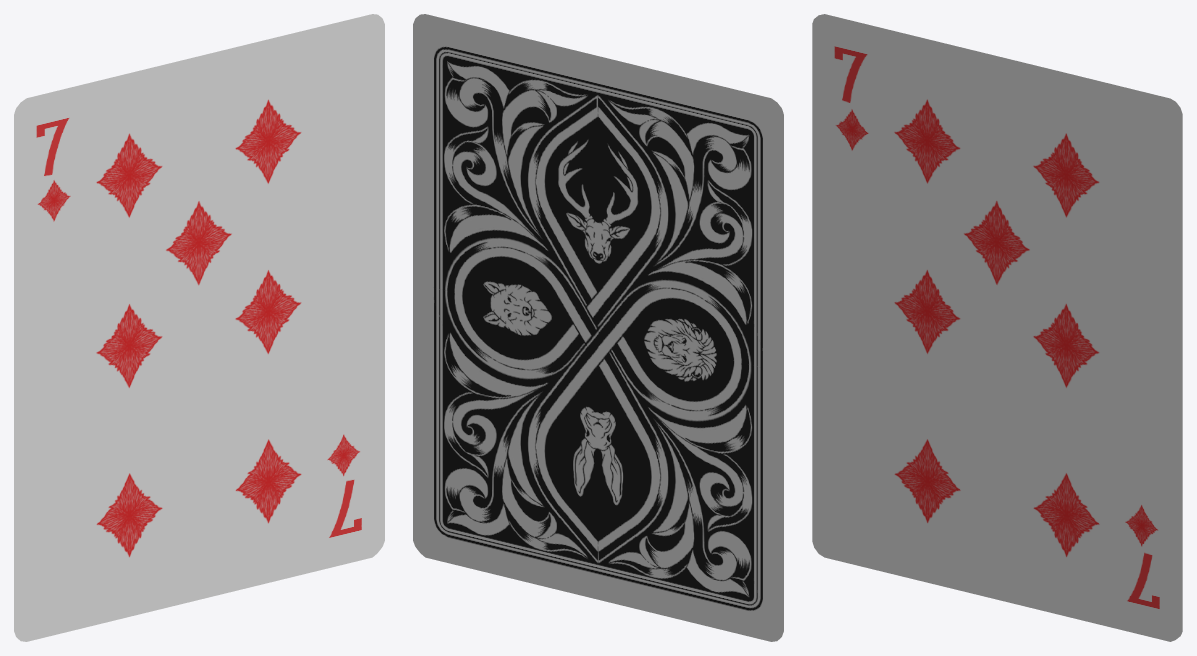
3 renders of one model, left to right at view 1: azimuth 30°, elevation 25°; view 2: azimuth 150°, elevation 25°; view 3: azimuth 330°, elevation 25°, orthographic.
Parts seen in each view (by area): view 1: Node; view 2: Node; view 3: Node.
Boxes of the visible parts, <box> form: Node: <box>14,14,384,641</box>; Node: <box>413,14,783,641</box>; Node: <box>812,14,1182,641</box>.
Size of the model in its own units: 1.5 by 2.1 by 7.08e-05.
1 material, 1 textured.
